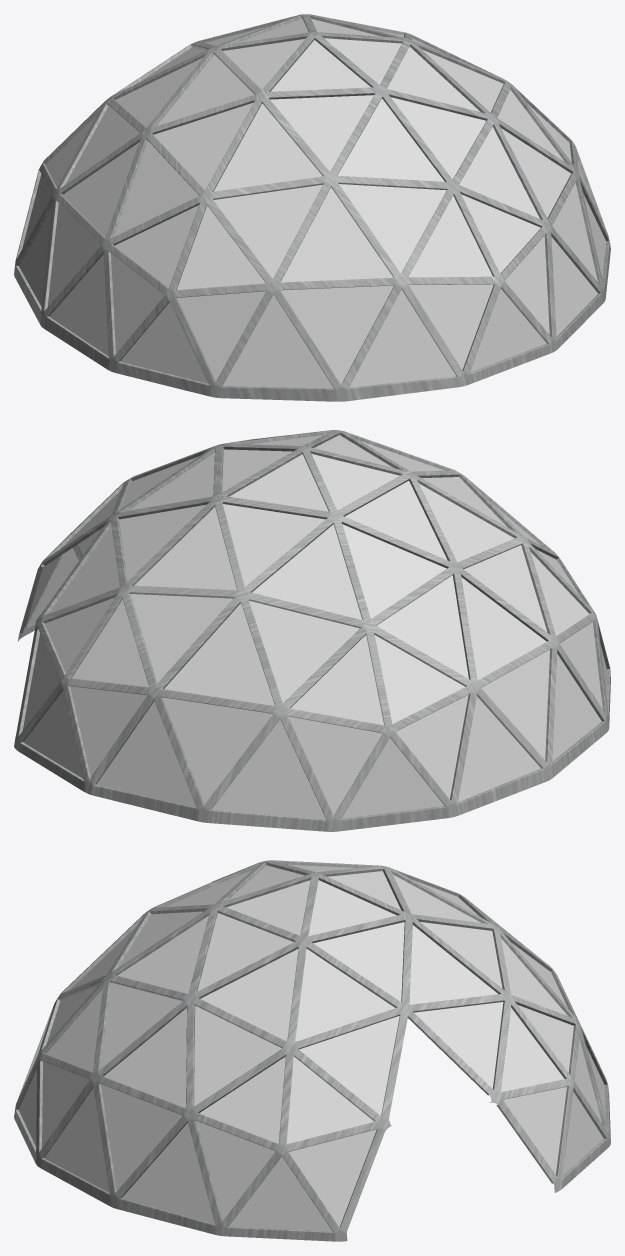
The model's file is reversedDome.fbx.
The picture shows the model from 3 angles, top to bottom: view 1: azimuth 30°, elevation 25°; view 2: azimuth 150°, elevation 25°; view 3: azimuth 270°, elevation 25°; orthographic projection. The views are drawn at different scales.
Parts seen in each view (by area): view 1: pasted__Dome; view 2: pasted__Dome; view 3: pasted__Dome.
Boxes of the visible parts, x1,y1,x2,y2 form: pasted__Dome: [14, 14, 610, 401]; pasted__Dome: [14, 430, 610, 831]; pasted__Dome: [14, 860, 610, 1241].
Bounding box in the file's own units: 34.87 × 15.78 × 34.86.
2 materials, 1 textured.
